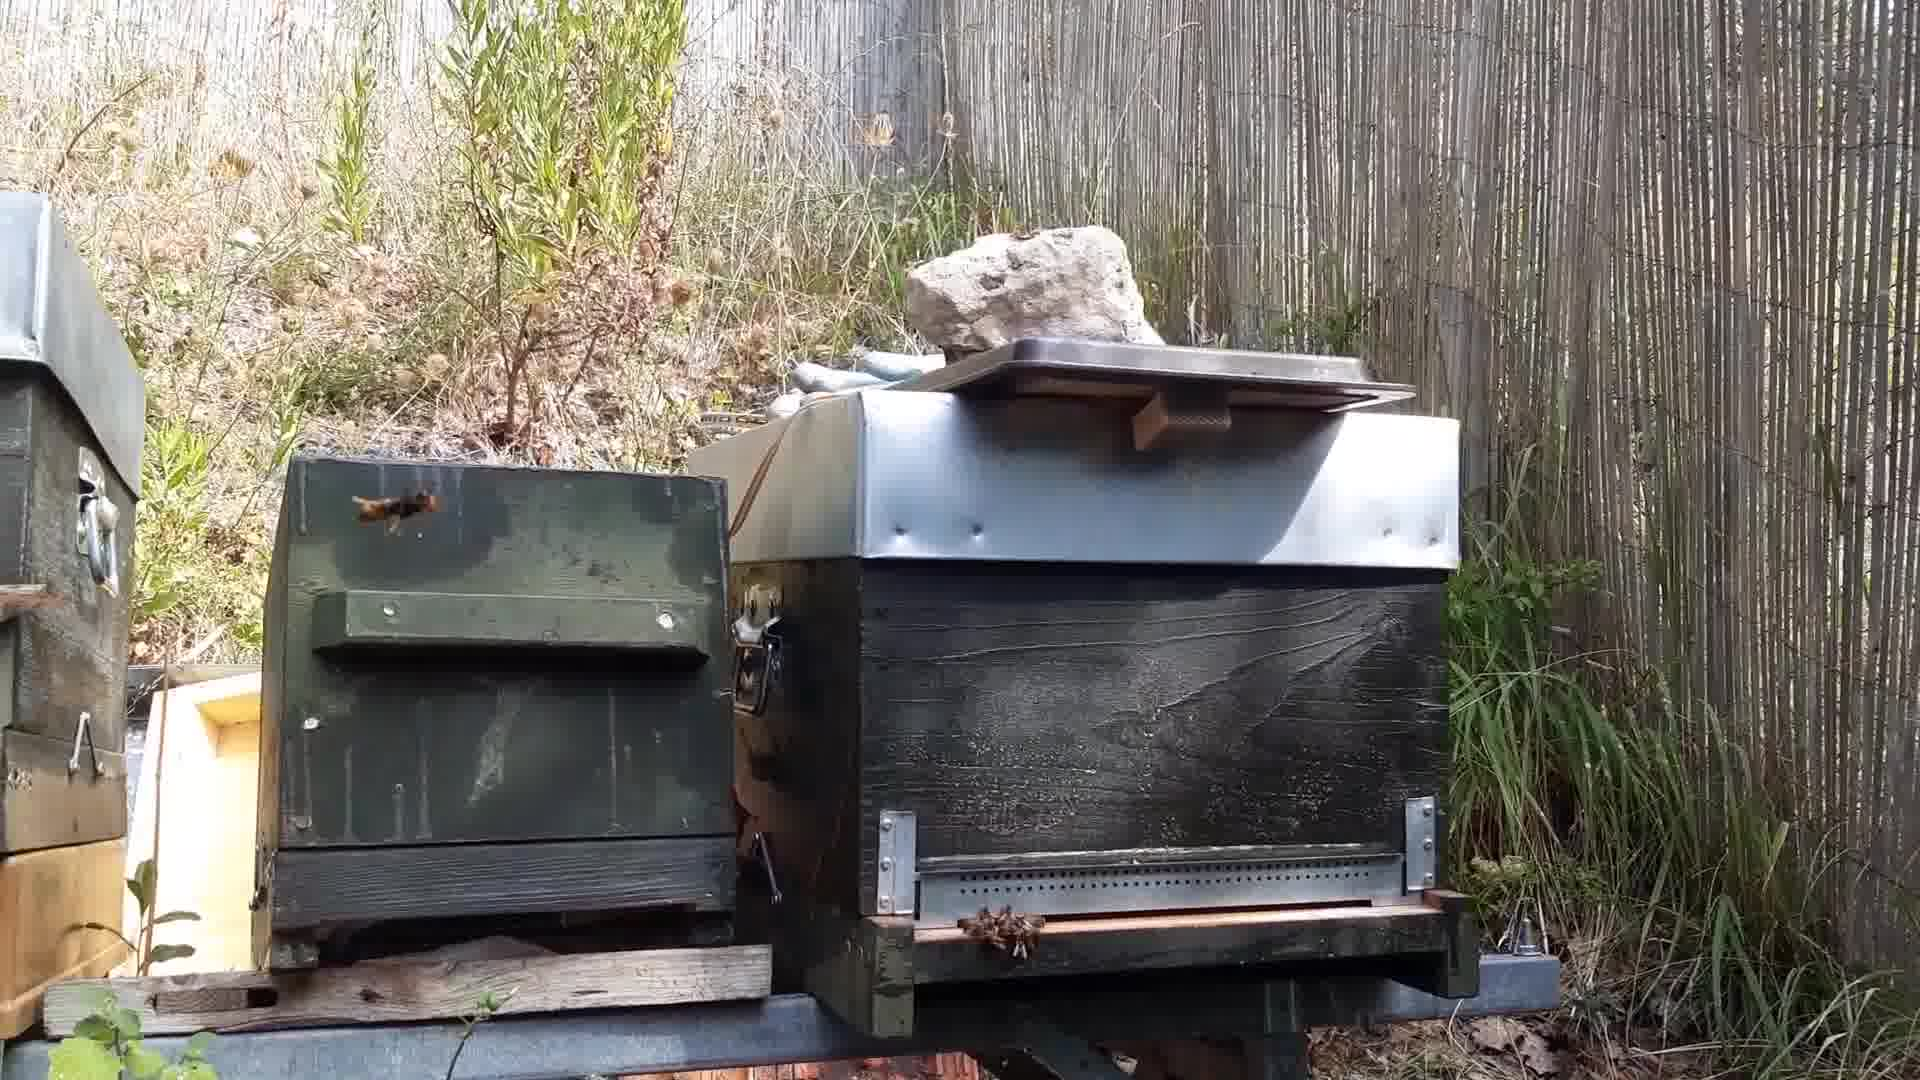bee: (960, 902, 1050, 967)
hornet: (348, 479, 440, 533)
